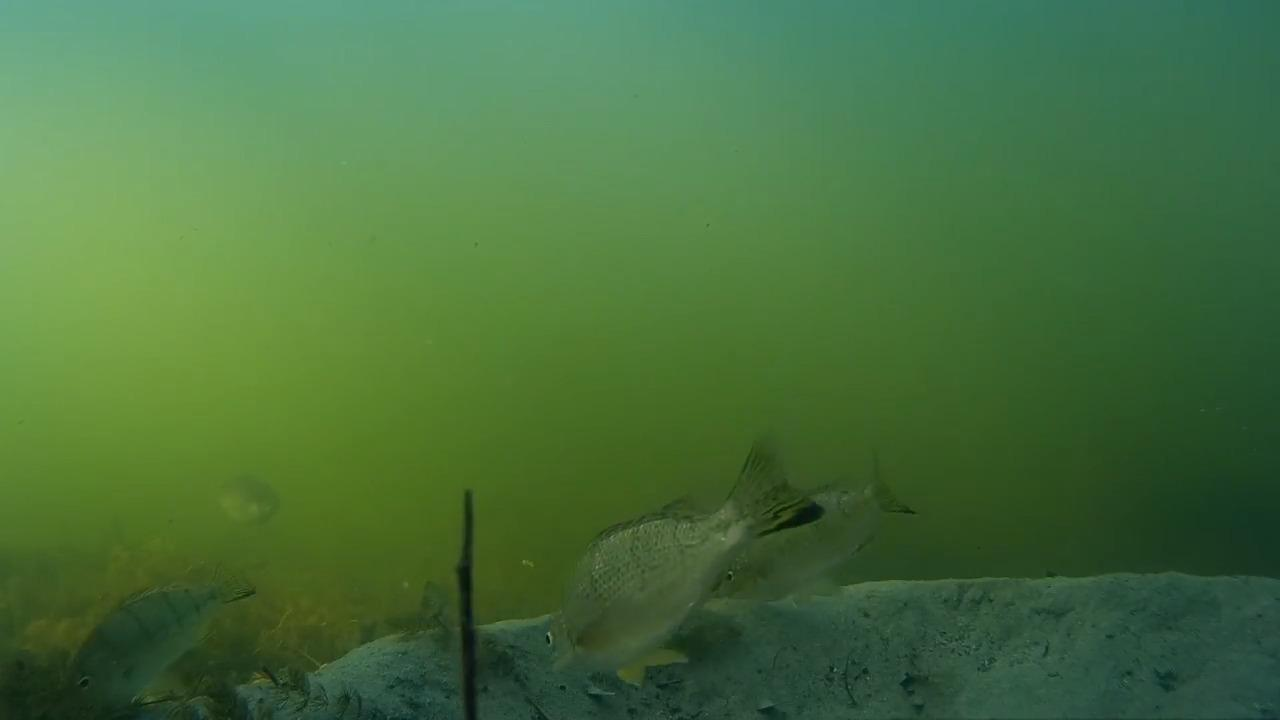Tilapia: (529, 430, 918, 698), (666, 458, 947, 630), (21, 570, 273, 713), (153, 466, 306, 540)
